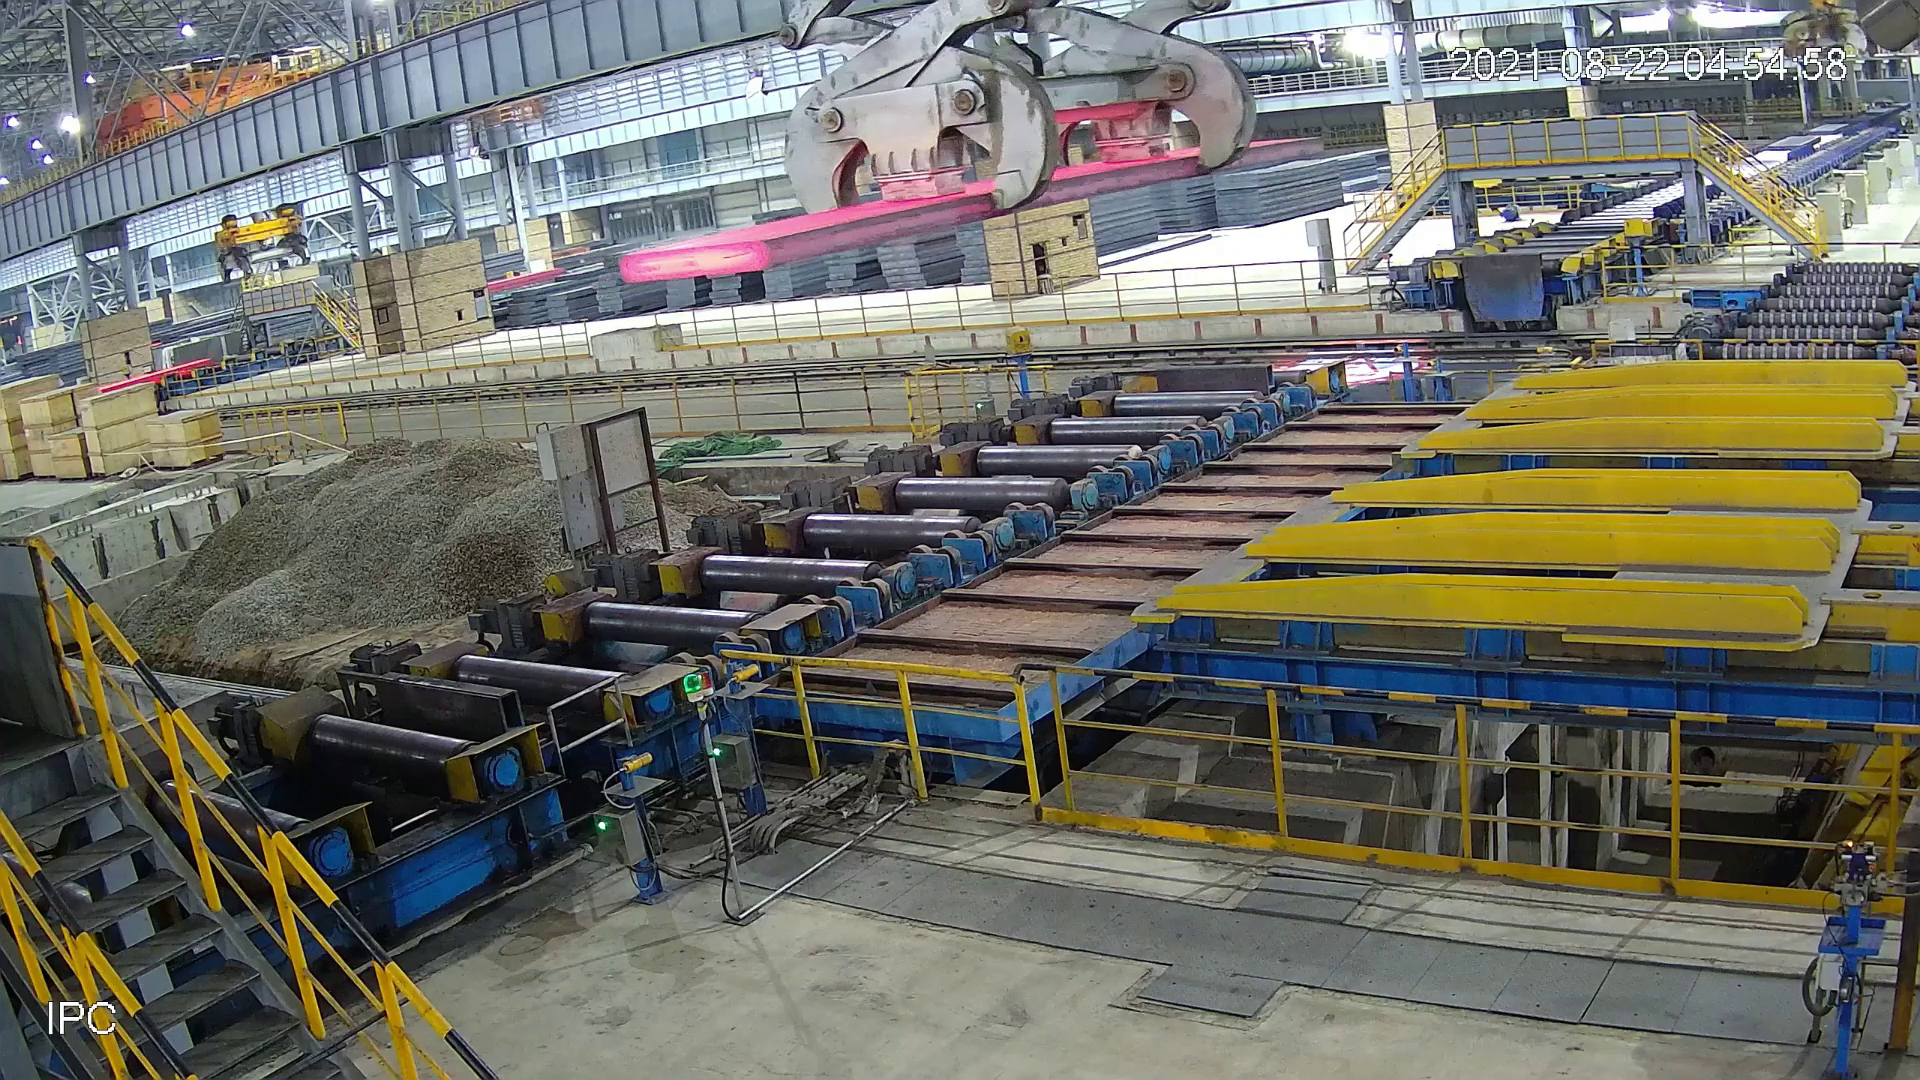craneandslab: (607, 1, 1338, 293)
